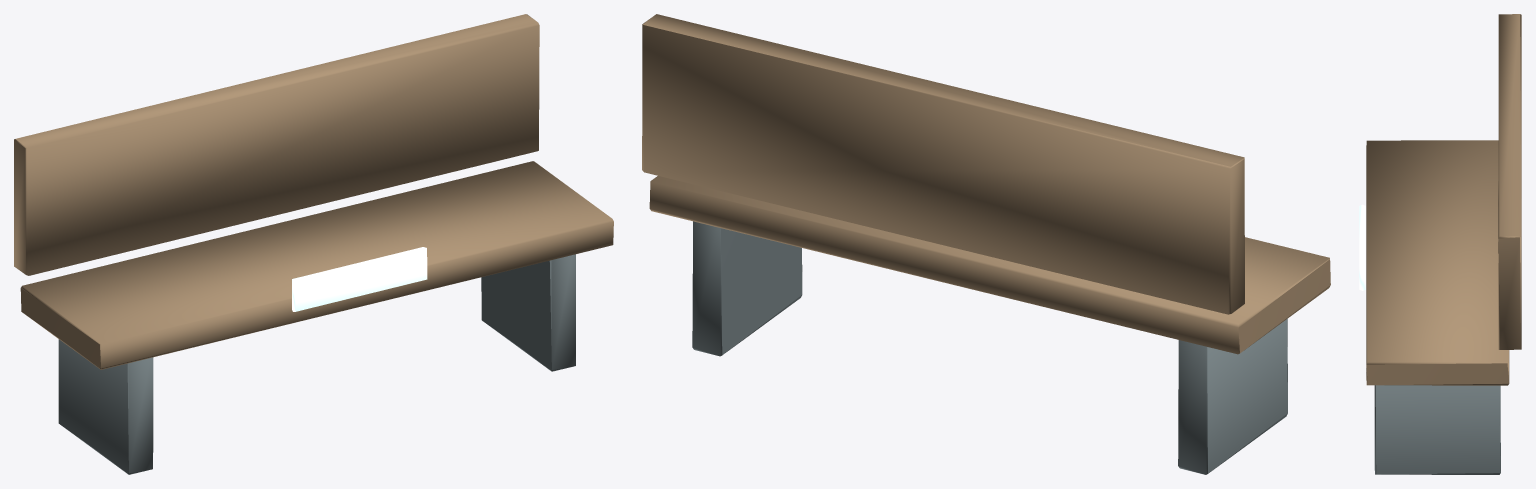
File: SM_Kurpark_Bench_LOD2.fbx
3 views of the same model, side by side, from view 1: azimuth 30°, elevation 25°; view 2: azimuth 150°, elevation 25°; view 3: azimuth 270°, elevation 25° (orthographic). The views are drawn at different scales.
Parts seen in each view (by area): view 1: SM_Kurpark_Bench_LOD2; view 2: SM_Kurpark_Bench_LOD2; view 3: SM_Kurpark_Bench_LOD2.
Boxes of the visible parts, x1=… form: SM_Kurpark_Bench_LOD2: x1=14, y1=14, x2=613, y2=474; SM_Kurpark_Bench_LOD2: x1=642, y1=14, x2=1330, y2=474; SM_Kurpark_Bench_LOD2: x1=1359, y1=14, x2=1521, y2=474.
Size of the model in its own units: 1.89 by 1 by 0.5831.
